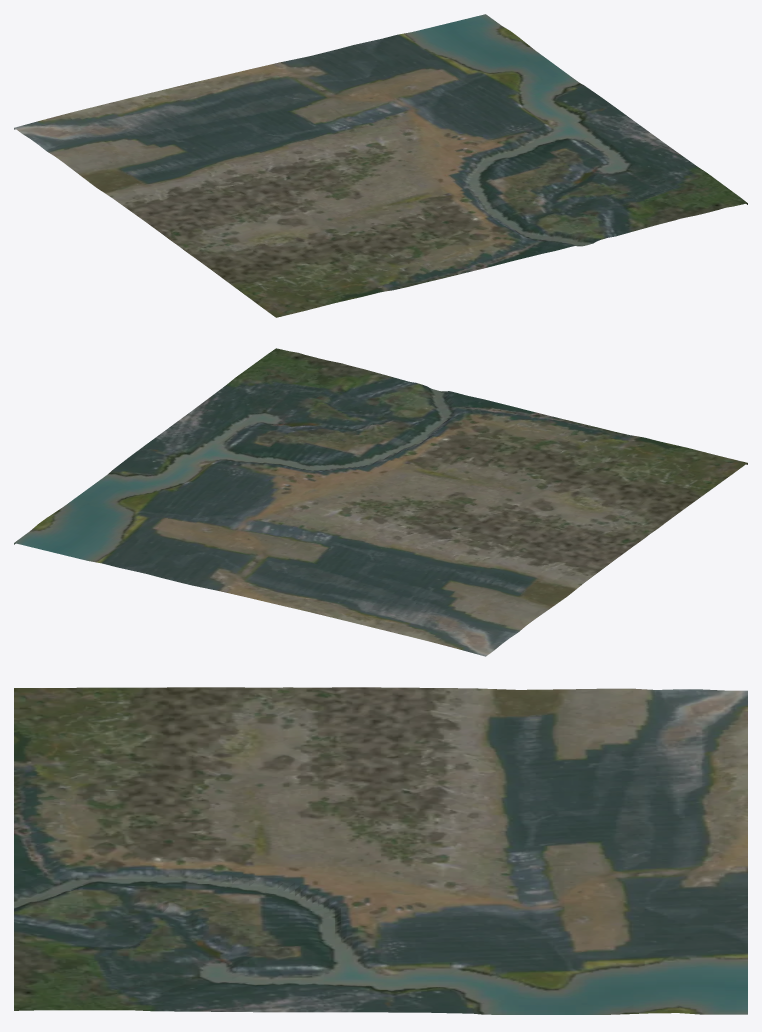
The picture shows the model from 3 angles, top to bottom: view 1: azimuth 30°, elevation 25°; view 2: azimuth 150°, elevation 25°; view 3: azimuth 270°, elevation 25°; orthographic projection. The views are drawn at different scales.
Bounding box in the file's own units: 250 × 3.08 × 241.
Materials: 1 (1 with a texture image).
